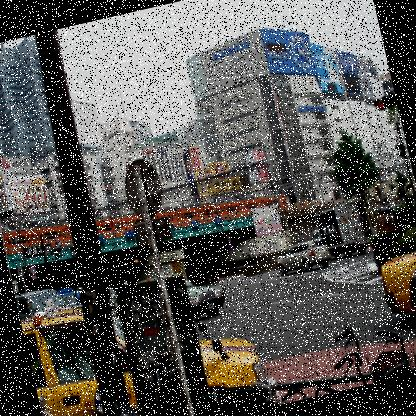Car: (21, 269, 275, 415), (373, 223, 415, 319), (276, 242, 334, 286), (184, 274, 226, 320)
